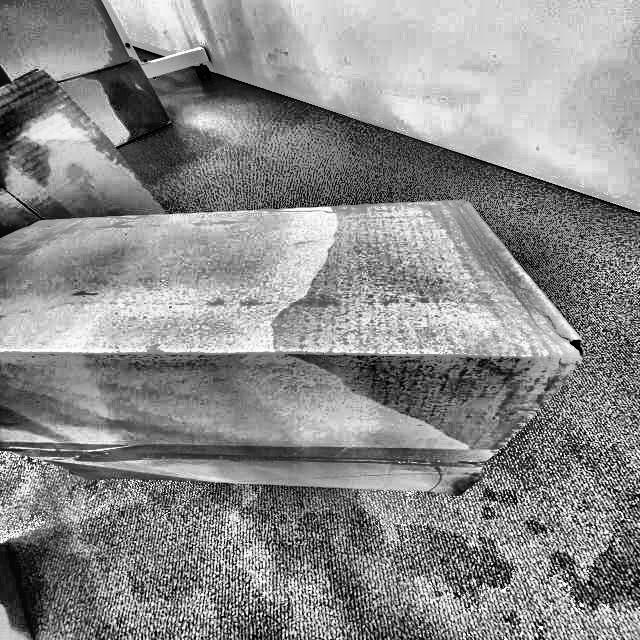box: (1, 196, 595, 500)
wet: (294, 211, 564, 452)
